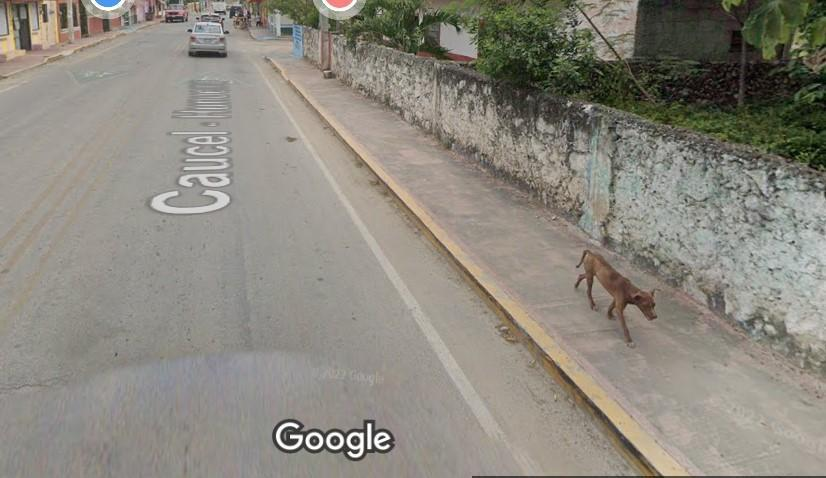normal_dogs: (572, 237, 668, 356)
